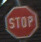stopsign: (5, 6, 38, 39)
